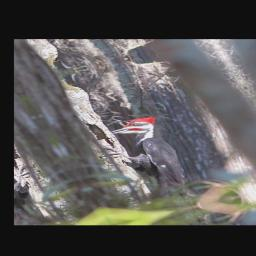Woodpecker: (81, 114, 213, 214)
